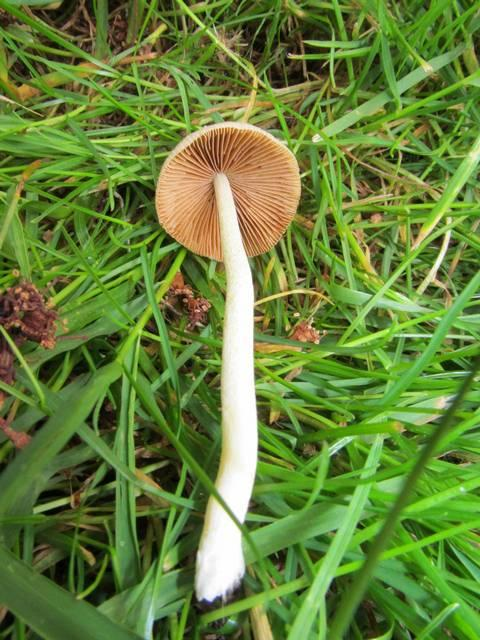edible_mushroom: (153, 120, 302, 615)
